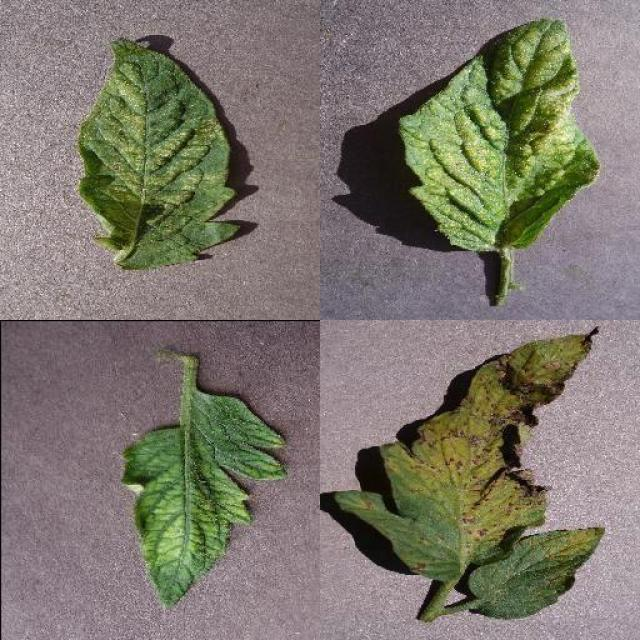Septoria: (334, 326, 606, 582)
